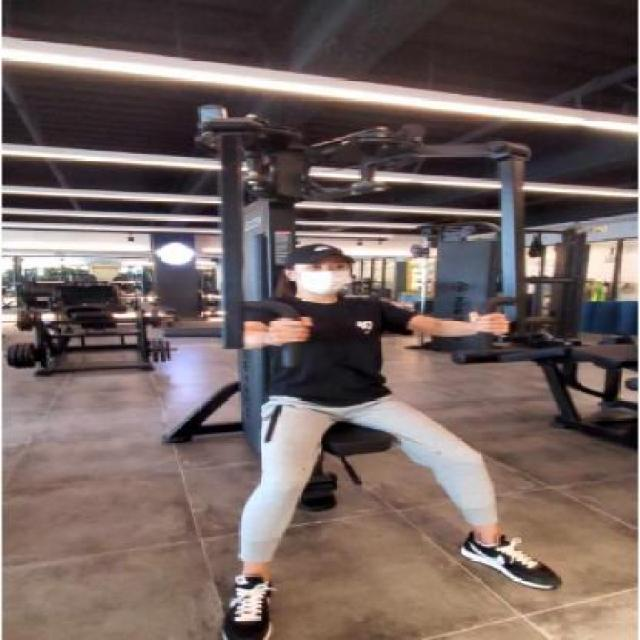chest fly machine: (3, 81, 640, 640)
